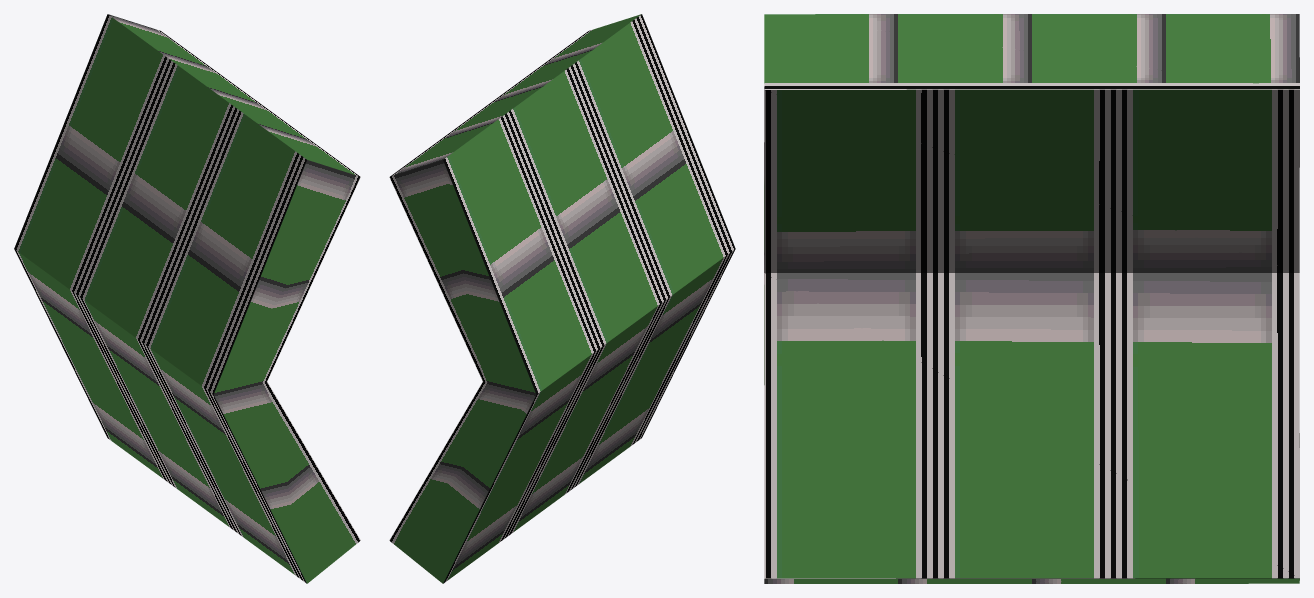
Rendered from 1315equip07_d.gltf.
The picture shows the model from 3 angles, left to right: view 1: azimuth 30°, elevation 25°; view 2: azimuth 150°, elevation 25°; view 3: azimuth 270°, elevation 25°; orthographic projection. The views are drawn at different scales.
Parts seen in each view (by area): view 1: 1315equip07_d; view 2: 1315equip07_d; view 3: 1315equip07_d.
Part boxes in pixels (<box>): 1315equip07_d: <box>14,14,360,583</box>; 1315equip07_d: <box>389,14,735,583</box>; 1315equip07_d: <box>764,14,1299,583</box>.
Size of the model in its own units: 0.2561 by 0.7041 by 0.6001.
Materials: 1 (1 with a texture image).
